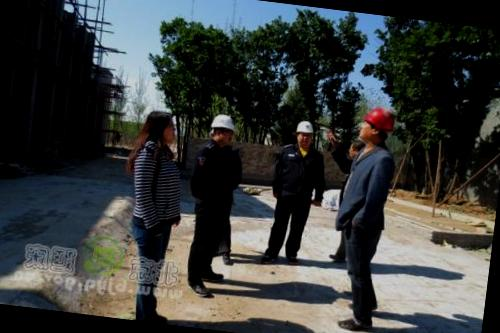no_helmet: (138, 102, 180, 150), (346, 138, 365, 160)
